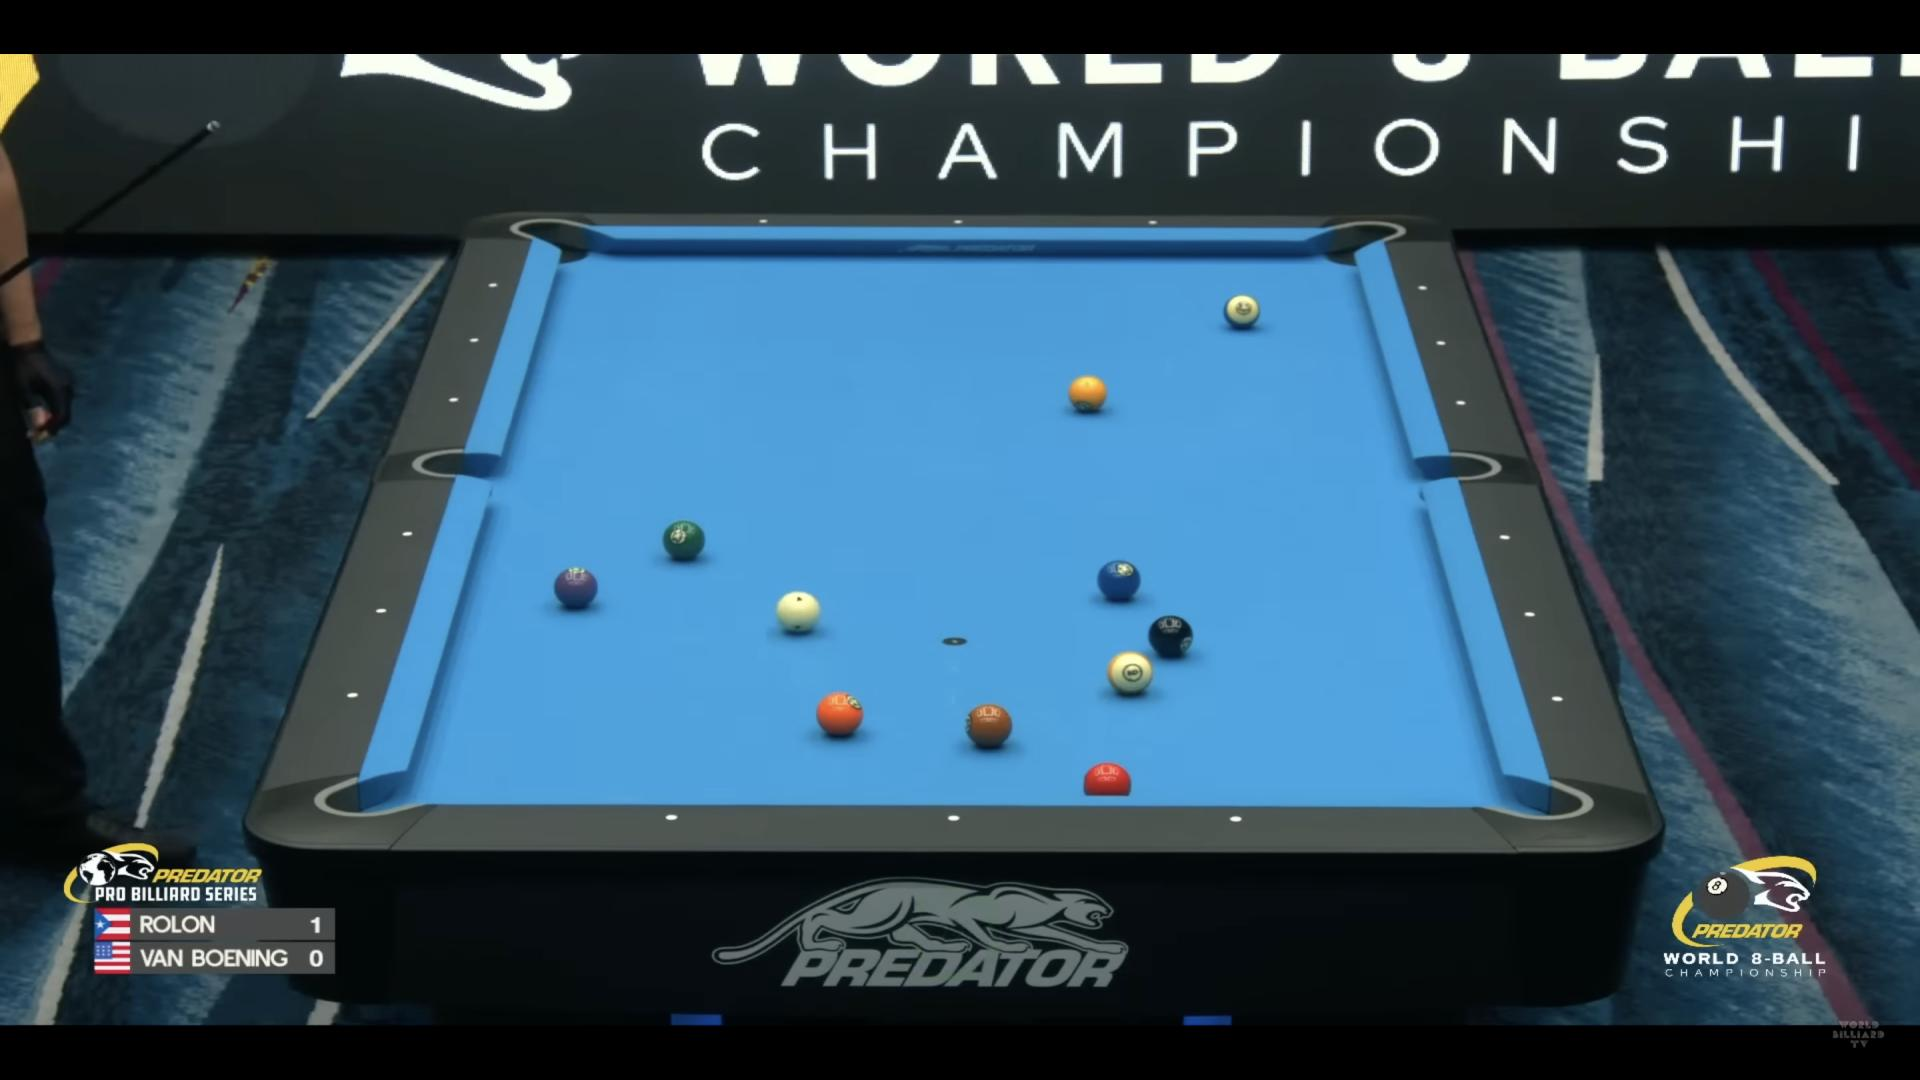Black: (1149, 615, 1193, 657)
Cue: (777, 591, 820, 633)
Dot: (1549, 691, 1564, 705), (1522, 607, 1536, 621), (1498, 530, 1513, 543), (1435, 338, 1447, 349), (1416, 282, 1428, 294), (468, 334, 480, 345), (666, 811, 678, 822), (947, 812, 959, 823), (1229, 814, 1241, 824), (347, 690, 359, 700), (375, 607, 386, 617), (401, 527, 413, 538), (1455, 398, 1466, 409), (448, 393, 460, 404), (487, 281, 498, 291), (760, 218, 769, 225), (953, 218, 963, 225), (1149, 218, 1156, 225)
Solid: (816, 692, 864, 736), (964, 704, 1013, 746), (662, 520, 704, 560), (554, 567, 597, 607), (1097, 560, 1141, 600), (1083, 764, 1131, 796), (1068, 376, 1106, 410)
Striped: (1106, 651, 1153, 695), (1224, 294, 1261, 327)
